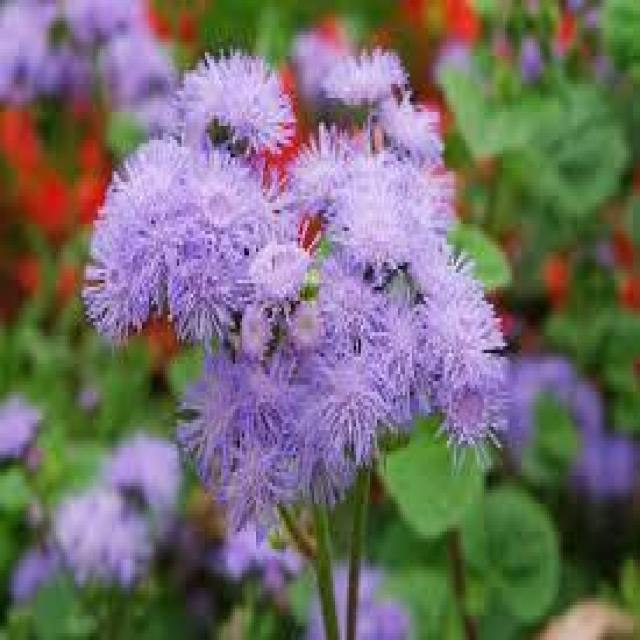organic waste: (79, 48, 514, 512)
